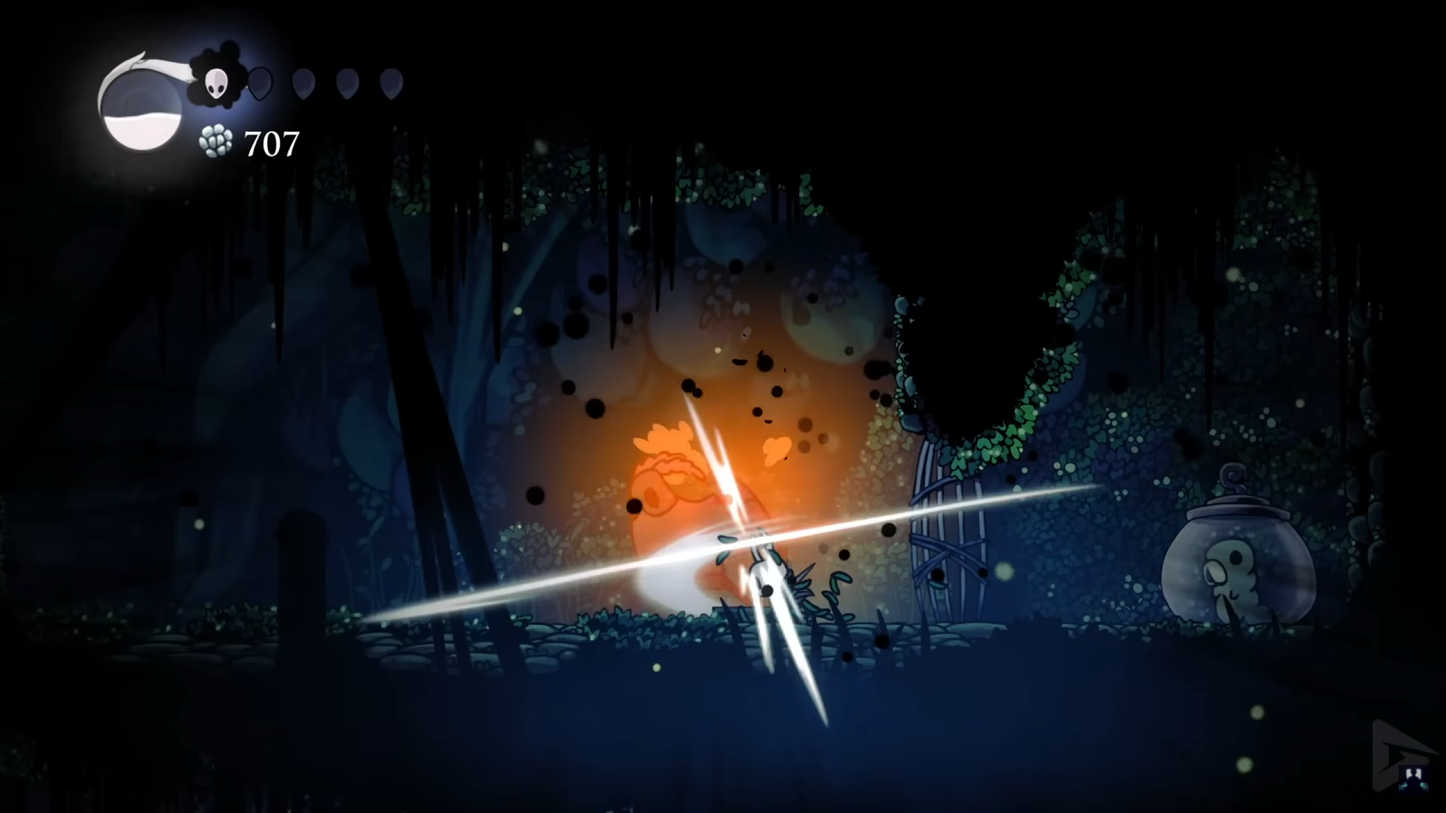HK: (747, 531, 796, 620)
